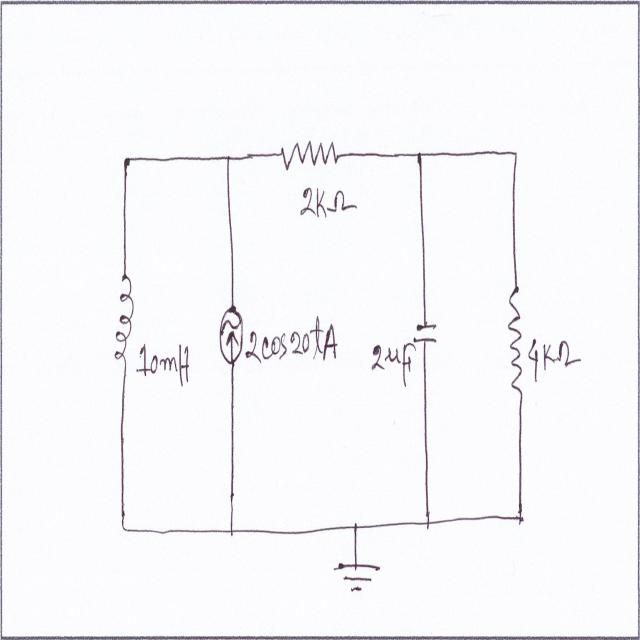capacitor: (410, 315, 440, 348)
current_source: (219, 304, 245, 368)
ground: (330, 558, 383, 602)
inductor: (111, 272, 135, 366)
resistor: (278, 128, 340, 176), (503, 281, 525, 401)
